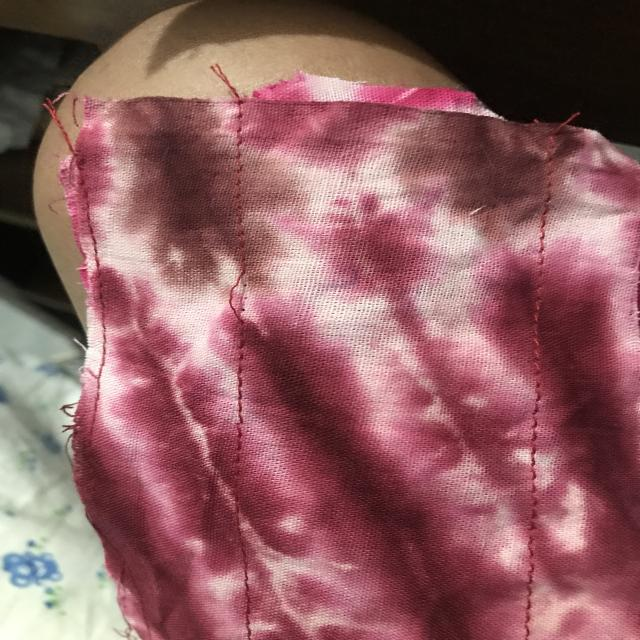good: (227, 366, 255, 442)
skip: (206, 256, 268, 335)
